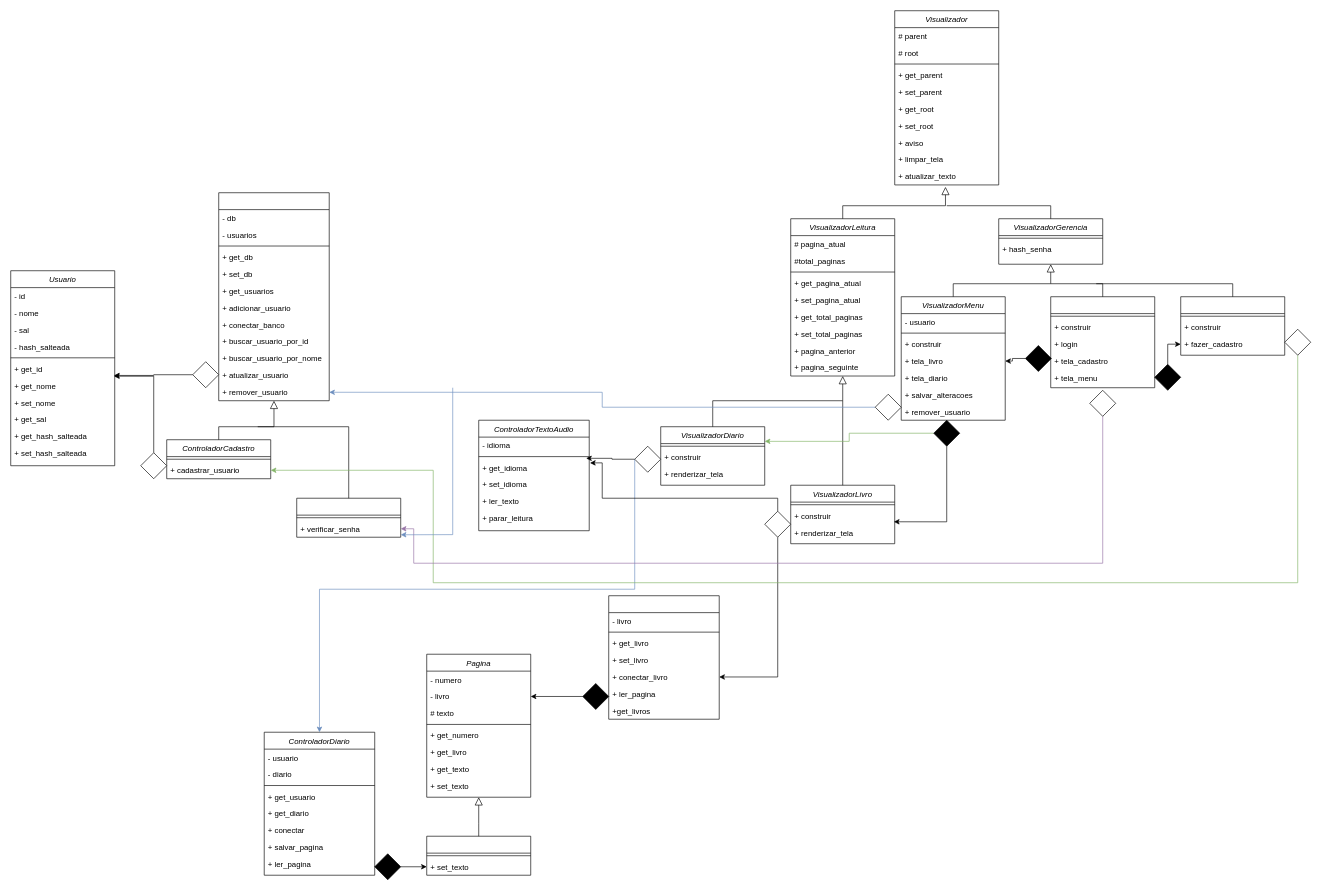
The diagram is 1321 pixels wide and 890 high, and some of its shapes have lost their labels. The shapes that lost their labels are listed below. From the top down, each one's box as (x1, y1, x2, y2) in pixels, then its label:
(218, 192, 329, 401): ControladorUsuario
(1050, 296, 1155, 388): VisualizadorLogin
(1180, 296, 1285, 355): VisualizadorCadastro
(296, 498, 401, 537): ControladorLogin
(608, 595, 719, 719): ControladorLivro
(426, 836, 531, 875): PaginaDiario
